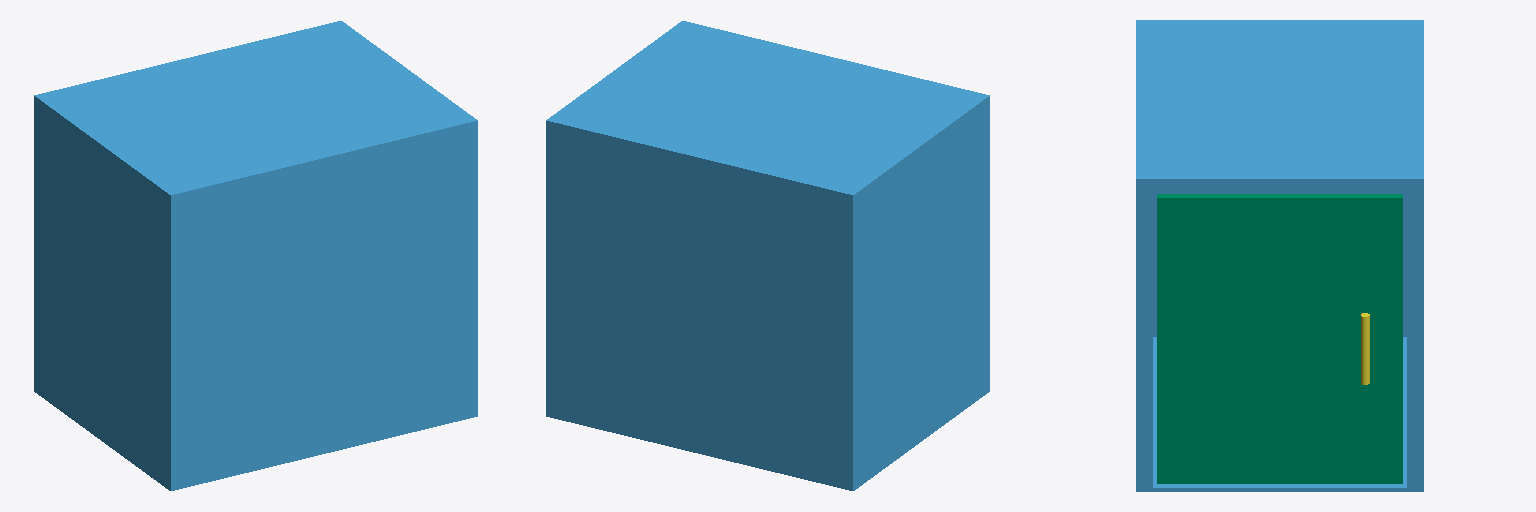
robot.urdf — my_cabinet:
<?xml version="1.0" ?>
<robot name="my_cabinet">
	<link name="world"/>
	<joint name="virtual_joint" type="fixed">
		<parent link="world"/>
		<child link="base_cabinet_link"/>
		<origin xyz="0.0 0.0 0.0" rpy="0.0 0.0 0.0"/>
	</joint>
	<link name="base_cabinet_link">
		<visual>
			<origin xyz="0.0 0.0 -0.1750776578705565" rpy="0.0 0.0 0.0"/>
			<geometry>
				<box size="0.4 0.3078249481028667 0.004"/>
			</geometry>
		</visual>
		<collision name="base_cabinet_link_collision_0">
			<origin xyz="0.0 0.0 -0.1750776578705565" rpy="0.0 0.0 0.0"/>
			<geometry>
				<box size="0.4 0.3078249481028667 0.004"/>
			</geometry>
		</collision>
		<visual>
			<origin xyz="0.0 0.14491247405143334 0.007" rpy="0.0 0.0 0.0"/>
			<geometry>
				<box size="0.4 0.018 0.36815531574111304"/>
			</geometry>
		</visual>
		<collision name="base_cabinet_link_collision_1">
			<origin xyz="0.0 0.14491247405143334 0.007" rpy="0.0 0.0 0.0"/>
			<geometry>
				<box size="0.4 0.018 0.36815531574111304"/>
			</geometry>
		</collision>
		<visual>
			<origin xyz="0.0 -0.14491247405143334 0.007" rpy="0.0 0.0 0.0"/>
			<geometry>
				<box size="0.4 0.018 0.36815531574111304"/>
			</geometry>
		</visual>
		<collision name="base_cabinet_link_collision_2">
			<origin xyz="0.0 -0.14491247405143334 0.007" rpy="0.0 0.0 0.0"/>
			<geometry>
				<box size="0.4 0.018 0.36815531574111304"/>
			</geometry>
		</collision>
		<visual>
			<origin xyz="0.0 0.0 0.18207765787055652" rpy="0.0 0.0 0.0"/>
			<geometry>
				<box size="0.4 0.3078249481028667 0.018"/>
			</geometry>
		</visual>
		<collision name="base_cabinet_link_collision_3">
			<origin xyz="0.0 0.0 0.18207765787055652" rpy="0.0 0.0 0.0"/>
			<geometry>
				<box size="0.4 0.3078249481028667 0.018"/>
			</geometry>
		</collision>
		<visual>
			<origin xyz="-0.191 0.0 0.007" rpy="0.0 0.0 0.0"/>
			<geometry>
				<box size="0.018 0.3078249481028667 0.36815531574111304"/>
			</geometry>
		</visual>
		<collision name="base_cabinet_link_collision_4">
			<origin xyz="-0.191 0.0 0.007" rpy="0.0 0.0 0.0"/>
			<geometry>
				<box size="0.018 0.3078249481028667 0.36815531574111304"/>
			</geometry>
		</collision>
		<inertial>
			<mass value="0.200000"/>
			<inertia ixx="0.003838" ixy="0.0" ixz="0.0" iyy="0.004926" iyz="0.0" izz="0.004246"/>
		</inertial>
	</link>
	<link name="door_link">
		<visual>
			<origin xyz="0.0 -0.12091247405143336 0.0"/>
			<geometry>
				<box size="0.018 0.2618249481028667 0.336155315741113"/>
			</geometry>
		</visual>
		<collision name="door_link_collision">
			<origin xyz="0.0 -0.12091247405143336 0.0"/>
			<geometry>
				<box size="0.018 0.2618249481028667 0.336155315741113"/>
			</geometry>
		</collision>
		<inertial>
			<mass value="0.200000"/>
			<inertia ixx="0.003026" ixy="0.0" ixz="0.0" iyy="0.001889" iyz="0.0" izz="0.001148"/>
		</inertial>
	</link>
	<joint name="door_joint" type="revolute">
		<origin xyz="0.191 -0.12091247405143336 0.0" rpy="0.000000 -0.000000 3.141593"/>
		<axis xyz="0 0 1"/>
		<parent link="base_cabinet_link"/>
		<child link="door_link"/>
		<limit effort="50" lower="0" upper="-1.5707963267948966" velocity="10"/>
		<dynamics friction="1.0"/>
	</joint>
	<link name="handle_link">
		<visual>
			<origin xyz="0.0 0.0 0.0" rpy="0.0 0.0 0.0"/>
			<geometry>
				<cylinder length="0.08" radius="0.005"/>
			</geometry>
		</visual>
		<collision name="handle_link_collision_0">
			<origin xyz="0.0 0.0 0.0" rpy="0.0 0.0 0.0"/>
			<geometry>
				<cylinder length="0.08" radius="0.005"/>
			</geometry>
		</collision>
		<visual>
			<origin xyz="-0.01 0.0 0.02" rpy="0.0 1.5707963267948966 0.0"/>
			<geometry>
				<cylinder length="0.02" radius="0.003"/>
			</geometry>
		</visual>
		<collision name="handle_link_collision_1">
			<origin xyz="-0.01 0.0 0.02" rpy="0.0 1.5707963267948966 0.0"/>
			<geometry>
				<cylinder length="0.01" radius="0.003"/>
			</geometry>
		</collision>
		<visual>
			<origin xyz="-0.01 0.0 -0.02" rpy="0.0 1.5707963267948966 0.0"/>
			<geometry>
				<cylinder length="0.02" radius="0.003"/>
			</geometry>
		</visual>
		<collision name="handle_link_collision_2">
			<origin xyz="-0.01 0.0 -0.02" rpy="0.0 1.5707963267948966 0.0"/>
			<geometry>
				<cylinder length="0.02" radius="0.003"/>
			</geometry>
		</collision>
		<inertial>
			<mass value="0.050000"/>
			<inertia ixx="0.000027" ixy="0.0" ixz="0.0" iyy="0.000029" iyz="0.0" izz="0.000003"/>
		</inertial>
	</link>
	<joint name="handle_joint" type="fixed">
		<origin xyz="-0.028999999999999998 -0.21182494810286673 0.0" rpy="0.000000 -0.000000 3.141593"/>
		<parent link="door_link"/>
		<child link="handle_link"/>
	</joint>
	<gazebo reference="base_cabinet_link">
		<sensor name="main_sensor" type="contact">
			<selfCollide>true</selfCollide>
			<alwaysOn>true</alwaysOn>
			<updateRate>5.0</updateRate>
			<material>Gazebo/Red</material>
			<contact>
				<collision>base_cabinet_link_collision_0_collision</collision>
				<collision>base_cabinet_link_collision_1_collision</collision>
				<collision>base_cabinet_link_collision_2_collision</collision>
				<collision>base_cabinet_link_collision_3_collision</collision>
				<collision>base_cabinet_link_collision_4_collision</collision>
			</contact>
			<plugin name="gazebo_ros_bumper_controller" filename="libgazebo_ros_bumper.so">
				<bumperTopicName>/contact</bumperTopicName>
				<frameName>world</frameName>
			</plugin>
		</sensor>
	</gazebo>
	<gazebo reference="door_link">
		<sensor name="main_sensor" type="contact">
			<selfCollide>true</selfCollide>
			<alwaysOn>true</alwaysOn>
			<updateRate>5.0</updateRate>
			<material>Gazebo/Red</material>
			<contact>
				<collision>door_link_collision_collision</collision>
			</contact>
			<plugin name="gazebo_ros_bumper_controller" filename="libgazebo_ros_bumper.so">
				<bumperTopicName>/contact_door</bumperTopicName>
				<frameName>contact_door</frameName>
			</plugin>
		</sensor>
	</gazebo>
</robot>

--- What the picture shows (computed from the rendered views, not written in the file) ---
3 views of the same robot in one strip: view 1: azimuth 30°, elevation 25°; view 2: azimuth 150°, elevation 25°; view 3: azimuth 270°, elevation 25° (orthographic).
Robot: my_cabinet — 4 links, 3 joints (1 revolute, 2 fixed); root link world; default pose: all joints at 0.
Visible links, largest first — view 1: base_cabinet_link; view 2: base_cabinet_link; view 3: door_link, base_cabinet_link, handle_link.
Link boxes in pixels (x1,y1,x2,y2): base_cabinet_link: (34, 21, 477, 490); base_cabinet_link: (546, 21, 989, 490); door_link: (1157, 194, 1402, 483); base_cabinet_link: (1136, 20, 1423, 491); handle_link: (1361, 313, 1369, 384).
Size in the robot's own frame: 0.425 by 0.3078 by 0.3682 metres.
Geometry: primitives only (box / cylinder / sphere), no mesh files.
